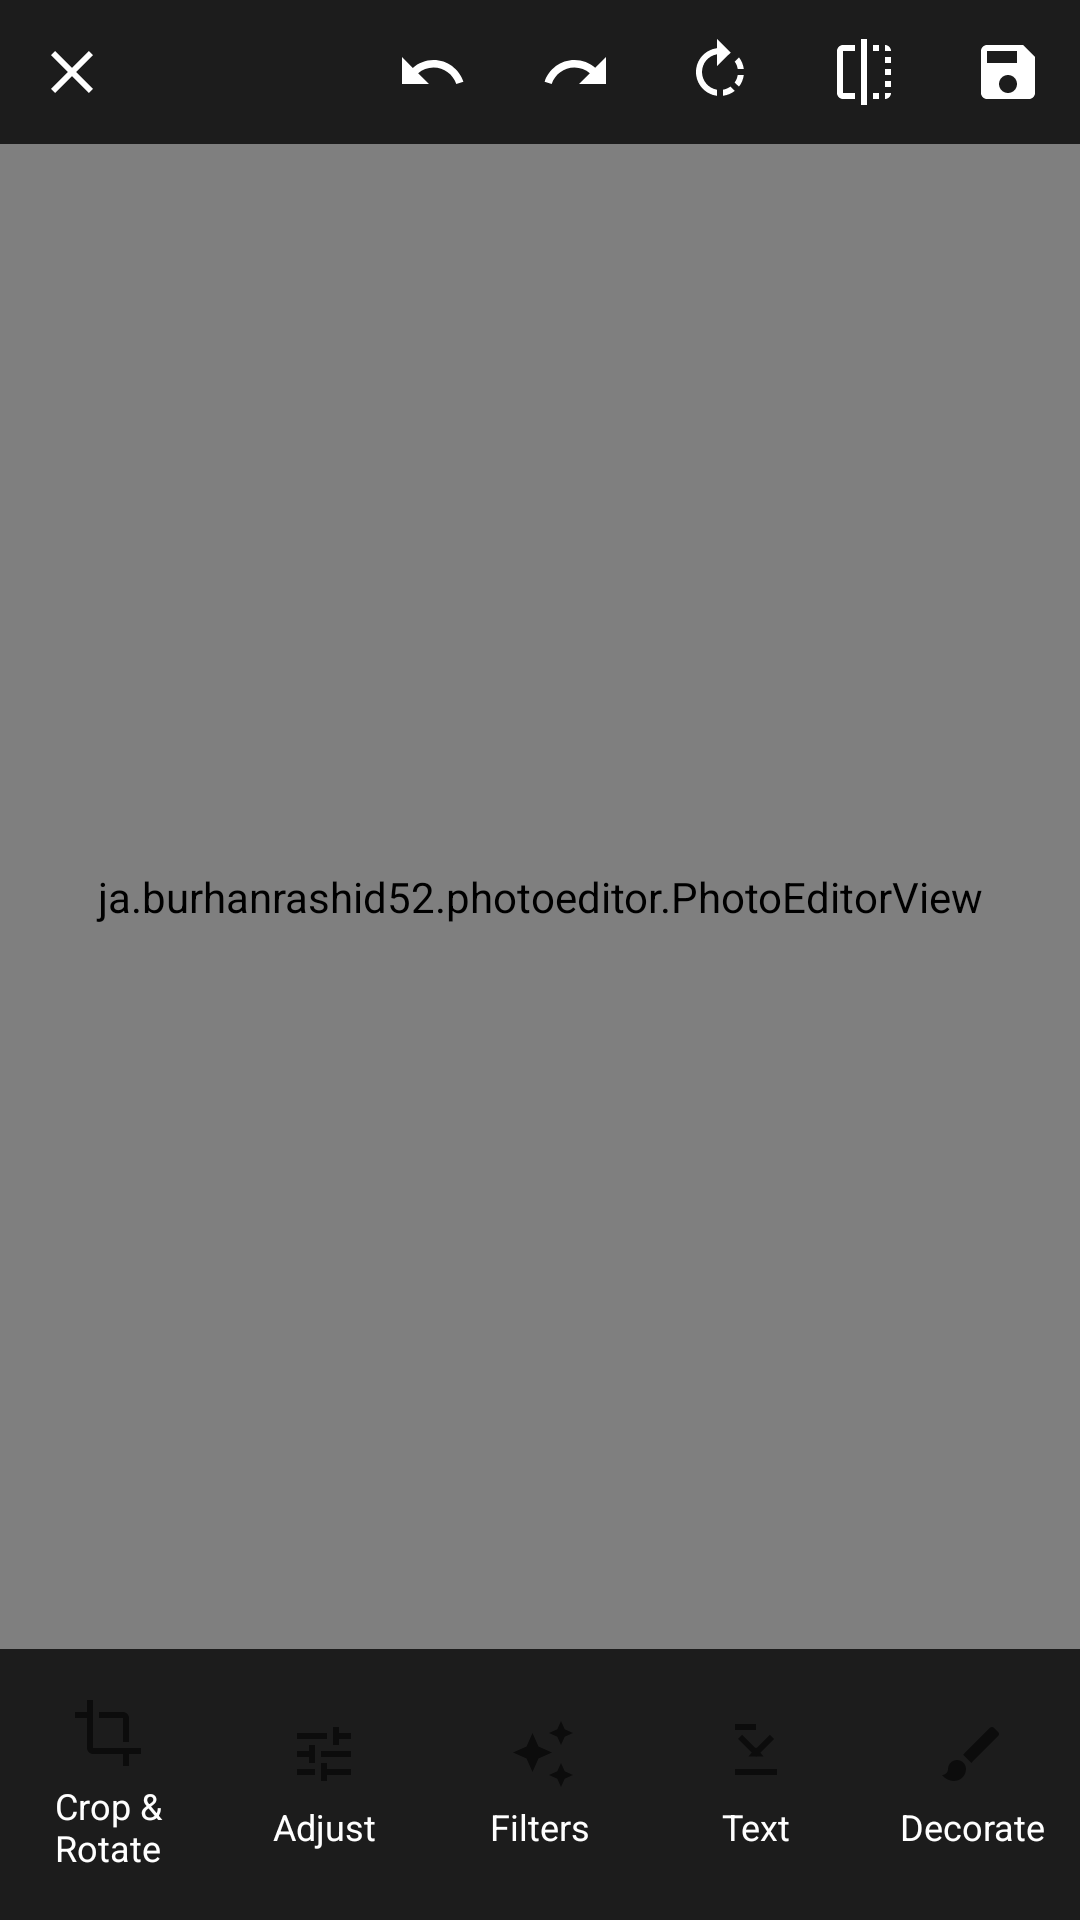

Named icons in this screenshot (1080*1920) and their centers, (x=x, y=y):
Close Editor: (x=72, y=72)
Flip horizontally: (x=864, y=72)
Redo: (x=575, y=70)
Rotate 90°: (x=720, y=67)
Save: (x=1008, y=72)
Undo: (x=433, y=70)
